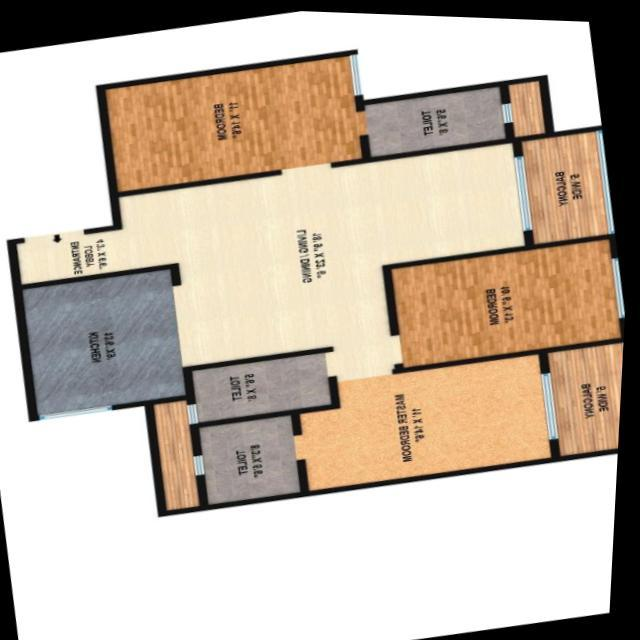Balcony-Sitout: (518, 118, 617, 244), (541, 332, 627, 459), (149, 393, 206, 515), (503, 68, 556, 140)
Bedroom: (94, 45, 373, 195), (385, 227, 628, 370)
Bedroom with Toilet: (191, 345, 562, 508)
Enterance-Foyer: (10, 215, 176, 289)
Kitchen: (16, 261, 192, 420)
Living: (112, 133, 531, 300)
Toilet: (356, 74, 514, 158), (183, 342, 340, 426), (192, 403, 315, 509)
